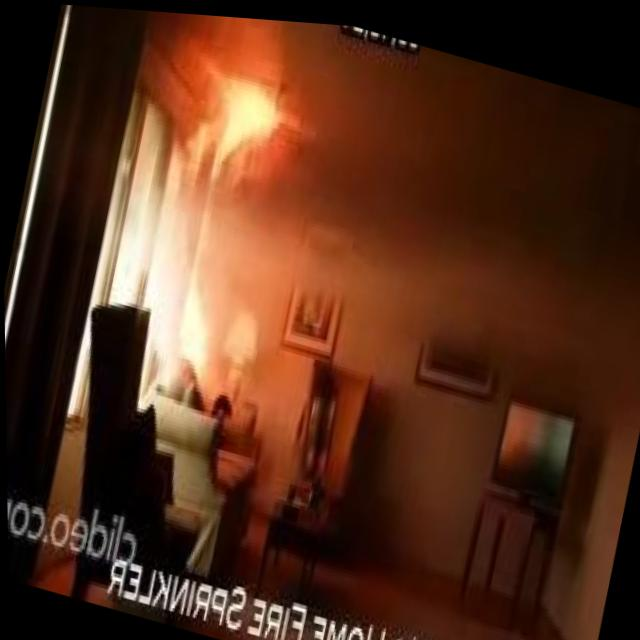fire: (207, 59, 292, 192), (173, 254, 226, 362)
